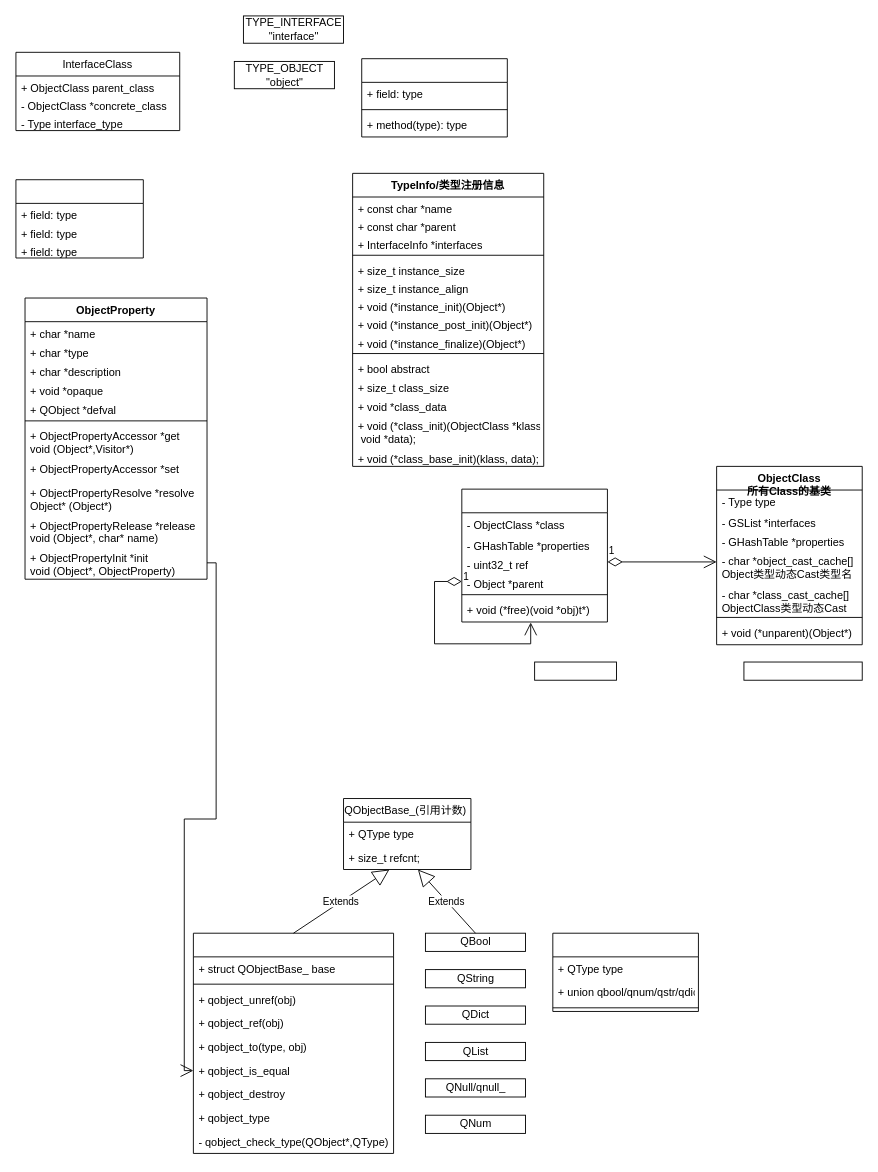
Image size: 878x1172. Some labels were removed from this diagram. Each missing label, with the box of its shape:
InterfaceInfo: (15, 179, 143, 258)
OBJECT(obj): (534, 661, 617, 680)
Object/对象的基类: (461, 488, 607, 622)
OBJECT_CLASS(class): (743, 661, 862, 680)
QLitObject: (552, 932, 698, 1011)
QObject(qobject.h): (192, 932, 394, 1153)
TypeImpl: (361, 58, 507, 137)
